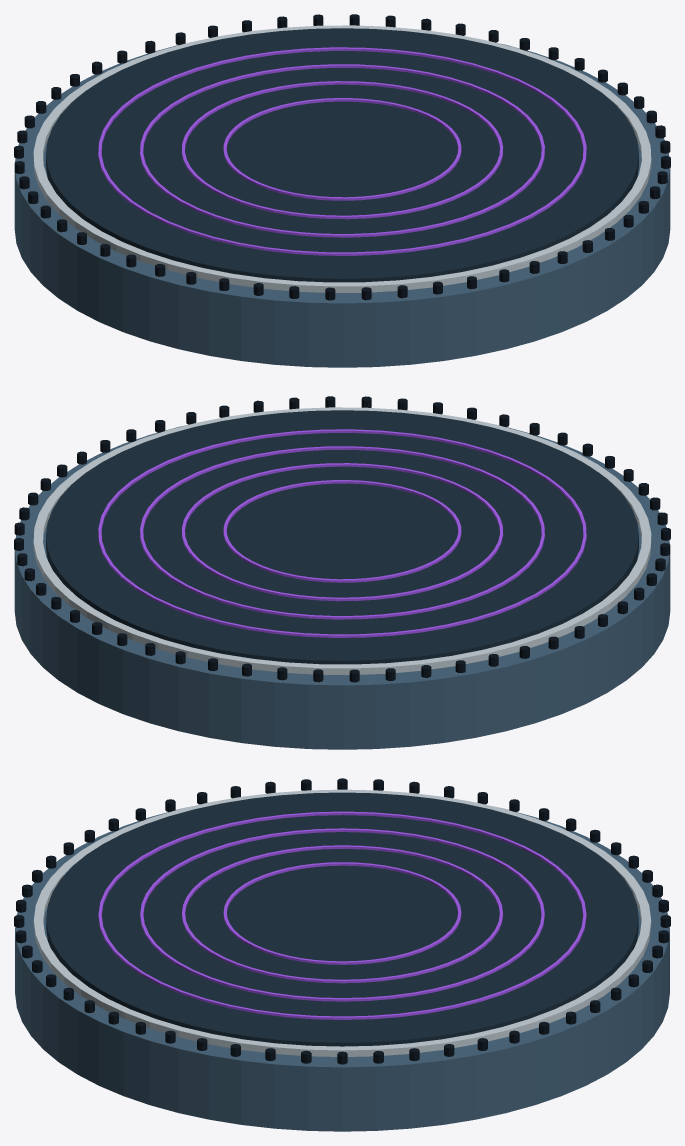
Rendered from 31_L77_BarrierClearingPolishingPlaten.fbx.
3 views of the same model, one above another, from view 1: azimuth 30°, elevation 25°; view 2: azimuth 150°, elevation 25°; view 3: azimuth 270°, elevation 25° (orthographic).
Parts seen in each view (by area): view 1: BarrierClearingPolishingPlaten_Part_0006, BarrierClearingPolishingPlaten_Part_0000, BarrierClearingPolishingPlaten_Part_0001, BarrierClearingPolishingPlaten_Part_0063, BarrierClearingPolishingPlaten_Part_0064, BarrierClearingPolishingPlaten_Part_0065, BarrierClearingPolishingPlaten_Part_0066; view 2: BarrierClearingPolishingPlaten_Part_0006, BarrierClearingPolishingPlaten_Part_0000, BarrierClearingPolishingPlaten_Part_0001, BarrierClearingPolishingPlaten_Part_0063, BarrierClearingPolishingPlaten_Part_0064, BarrierClearingPolishingPlaten_Part_0065, BarrierClearingPolishingPlaten_Part_0066; view 3: BarrierClearingPolishingPlaten_Part_0006, BarrierClearingPolishingPlaten_Part_0000, BarrierClearingPolishingPlaten_Part_0001, BarrierClearingPolishingPlaten_Part_0063, BarrierClearingPolishingPlaten_Part_0064, BarrierClearingPolishingPlaten_Part_0065, BarrierClearingPolishingPlaten_Part_0066.
Part boxes in pixels (<box>): BarrierClearingPolishingPlaten_Part_0006: <box>46,28,638,282</box>; BarrierClearingPolishingPlaten_Part_0000: <box>14,43,670,367</box>; BarrierClearingPolishingPlaten_Part_0001: <box>33,25,651,292</box>; BarrierClearingPolishingPlaten_Part_0063: <box>98,47,586,255</box>; BarrierClearingPolishingPlaten_Part_0064: <box>140,64,544,237</box>; BarrierClearingPolishingPlaten_Part_0065: <box>181,81,503,219</box>; BarrierClearingPolishingPlaten_Part_0066: <box>223,98,461,200</box>; BarrierClearingPolishingPlaten_Part_0006: <box>46,410,638,664</box>; BarrierClearingPolishingPlaten_Part_0000: <box>14,425,670,749</box>; BarrierClearingPolishingPlaten_Part_0001: <box>33,407,651,674</box>; BarrierClearingPolishingPlaten_Part_0063: <box>98,429,586,637</box>; BarrierClearingPolishingPlaten_Part_0064: <box>140,446,544,619</box>; BarrierClearingPolishingPlaten_Part_0065: <box>181,463,503,601</box>; BarrierClearingPolishingPlaten_Part_0066: <box>223,480,461,582</box>; BarrierClearingPolishingPlaten_Part_0006: <box>46,792,638,1046</box>; BarrierClearingPolishingPlaten_Part_0000: <box>15,807,669,1131</box>; BarrierClearingPolishingPlaten_Part_0001: <box>33,789,651,1056</box>; BarrierClearingPolishingPlaten_Part_0063: <box>98,811,586,1019</box>; BarrierClearingPolishingPlaten_Part_0064: <box>140,828,544,1001</box>; BarrierClearingPolishingPlaten_Part_0065: <box>182,845,502,983</box>; BarrierClearingPolishingPlaten_Part_0066: <box>223,862,461,964</box>.
Bounding box in the file's own units: 315 × 42.8 × 315.
